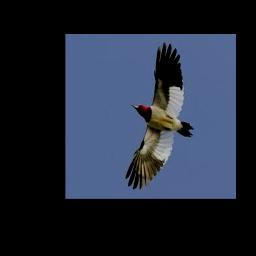Woodpecker: (126, 42, 194, 189)
